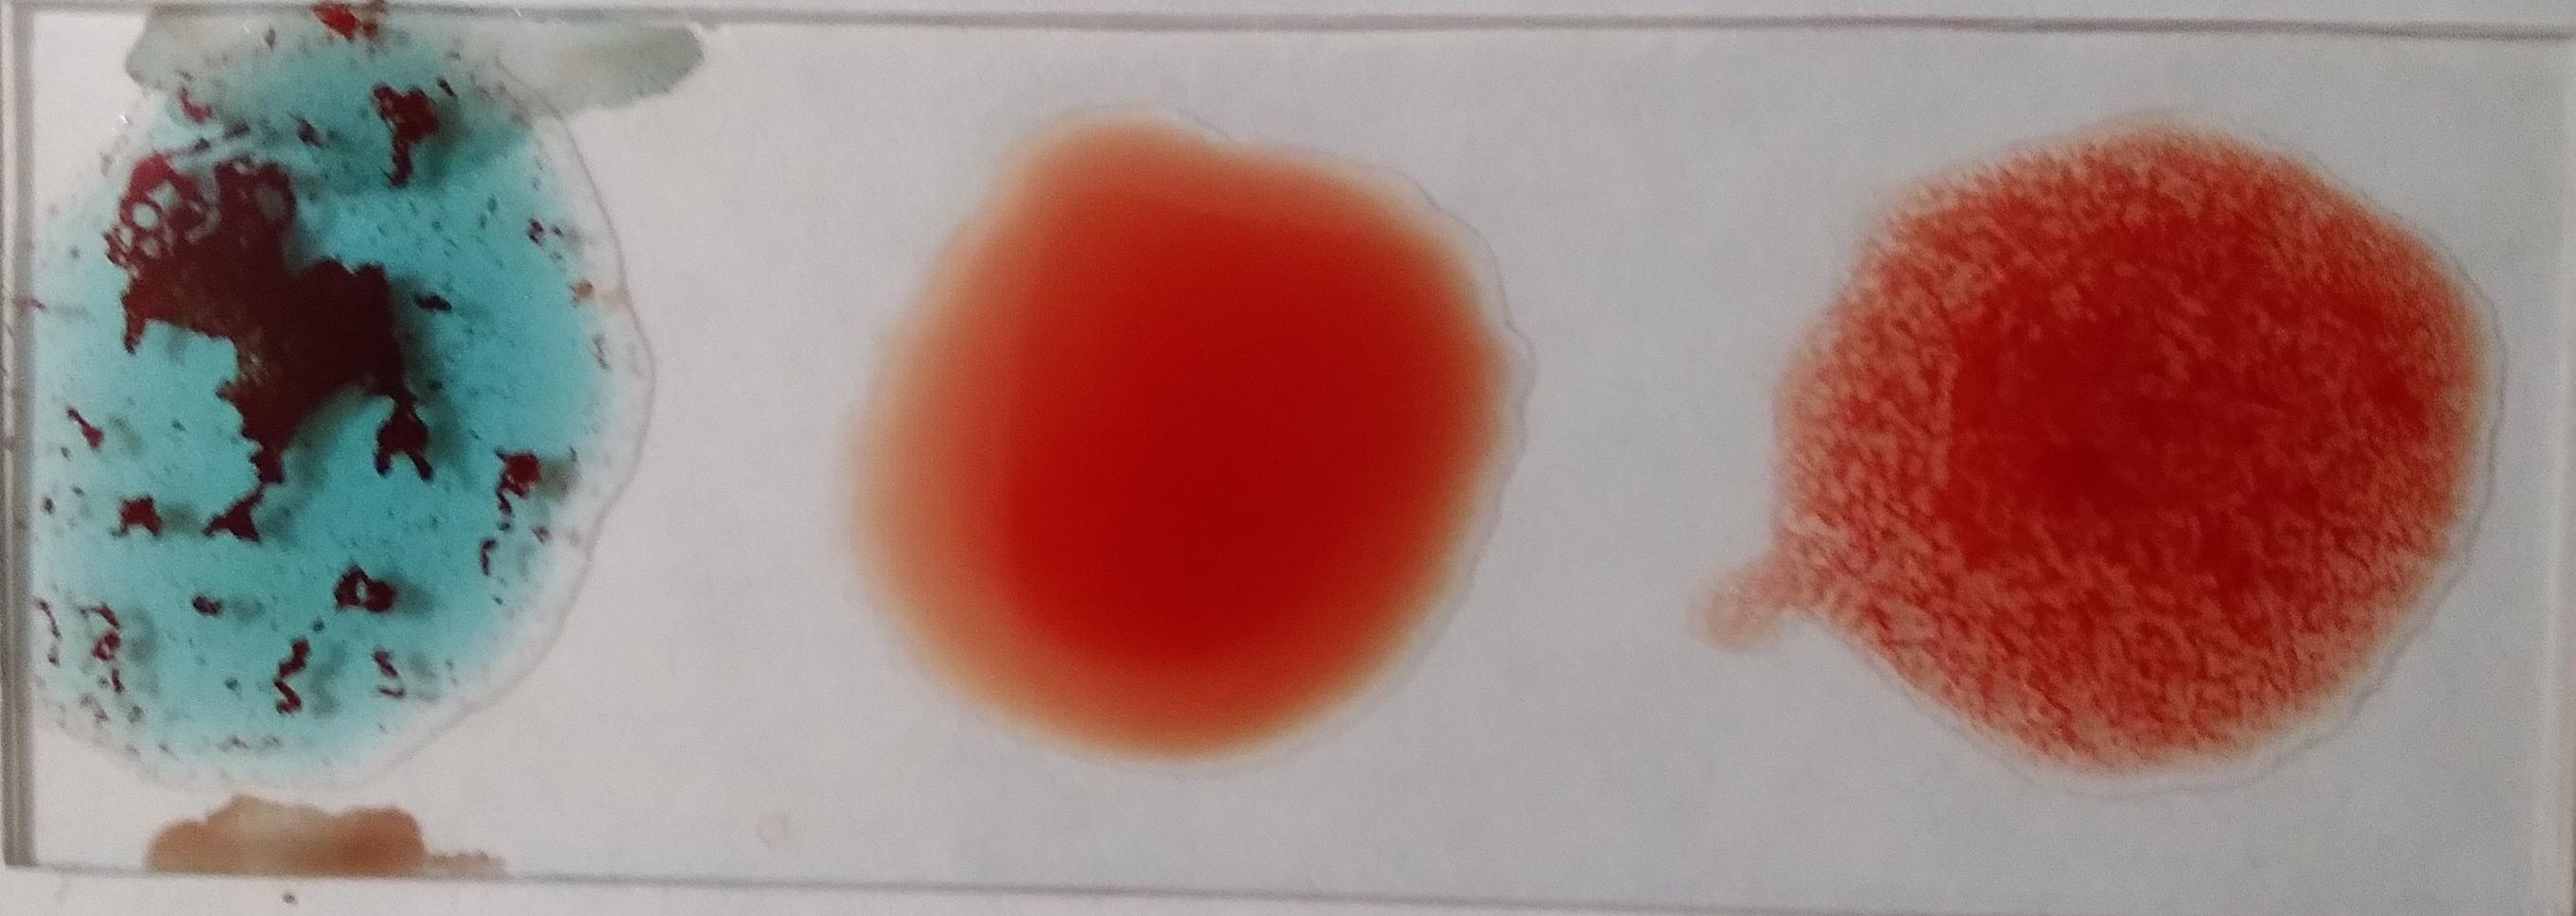A: (33, 30, 634, 794)
D: (1819, 150, 2499, 783)
